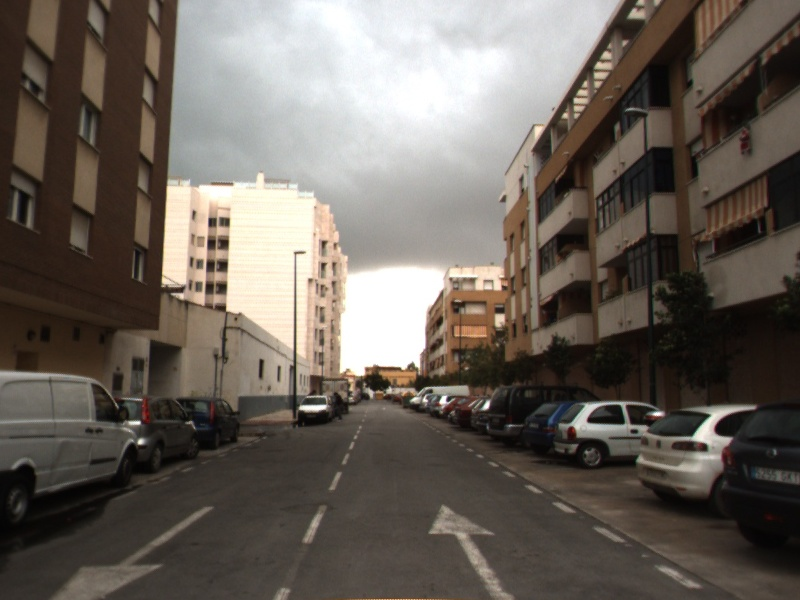STRAIGHT: (426, 501, 517, 600)
